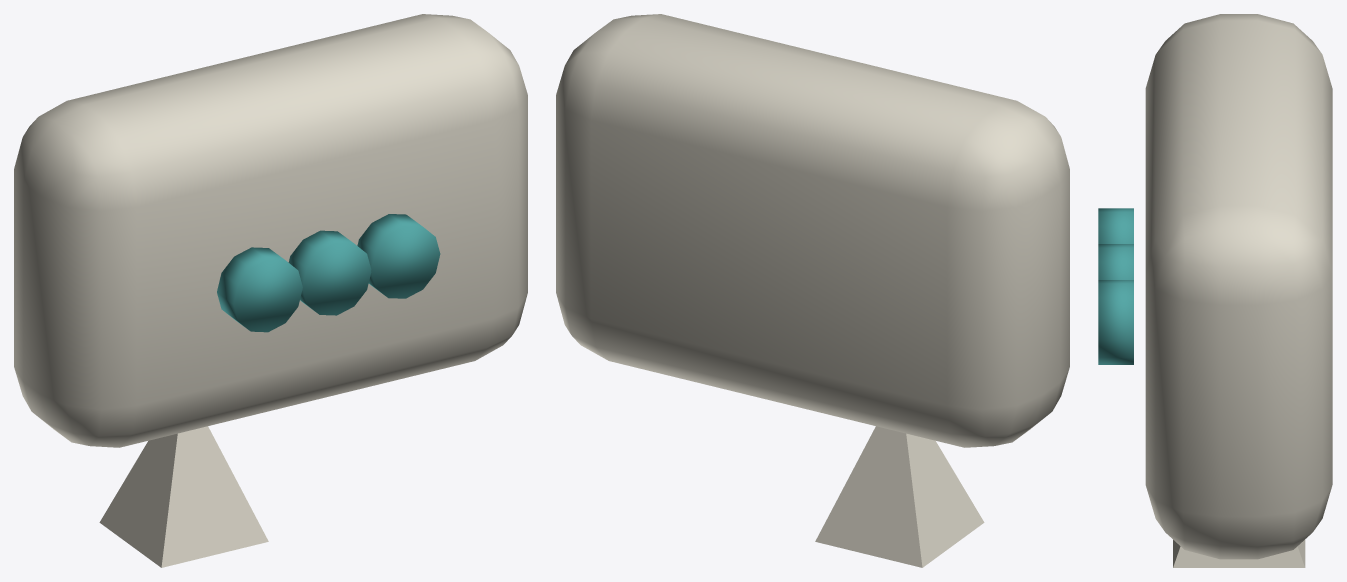
File: reward-content-status.glb
3 renders of one model, left to right at view 1: azimuth 30°, elevation 25°; view 2: azimuth 150°, elevation 25°; view 3: azimuth 270°, elevation 25°, orthographic. The views are drawn at different scales.
Parts seen in each view (by area): view 1: status bubble, status tail, status dot -0.095, status dot 0.095, status dot 0.0; view 2: status bubble, status tail; view 3: status bubble, status dot 0.095, status tail, status dot 0.0, status dot -0.095.
Part boxes in pixels (x1,y1,x2,y2): status bubble: (14, 14, 527, 447); status tail: (99, 426, 268, 567); status dot -0.095: (217, 247, 302, 332); status dot 0.095: (357, 214, 440, 298); status dot 0.0: (288, 230, 371, 315); status bubble: (556, 14, 1069, 447); status tail: (815, 426, 984, 567); status bubble: (1145, 14, 1332, 559); status dot 0.095: (1098, 280, 1133, 364); status tail: (1173, 539, 1305, 567); status dot 0.0: (1098, 244, 1133, 279); status dot -0.095: (1098, 208, 1133, 243).
Size of the model in its own units: 0.66 by 0.585 by 0.263.
